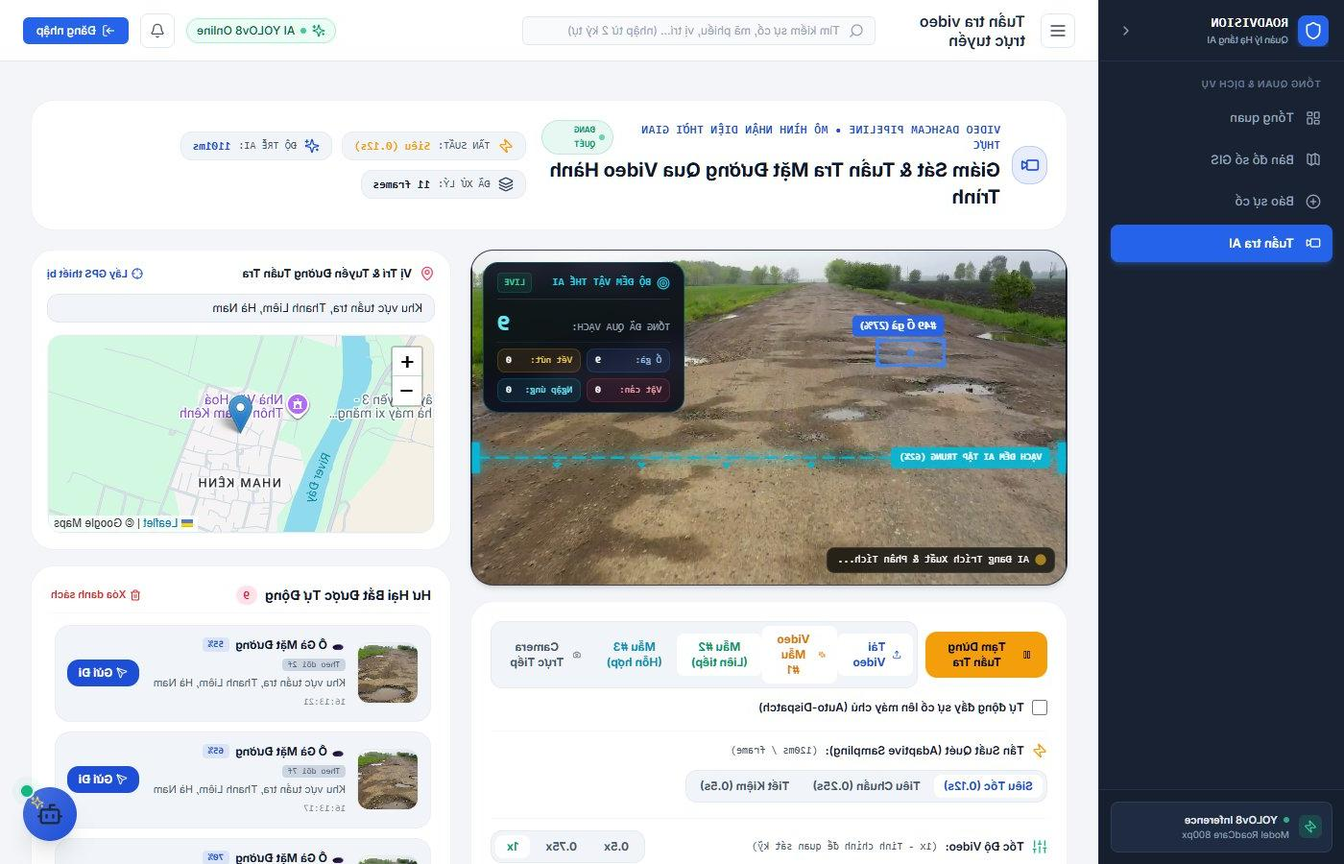POTHOLE: (511, 432, 887, 657)
